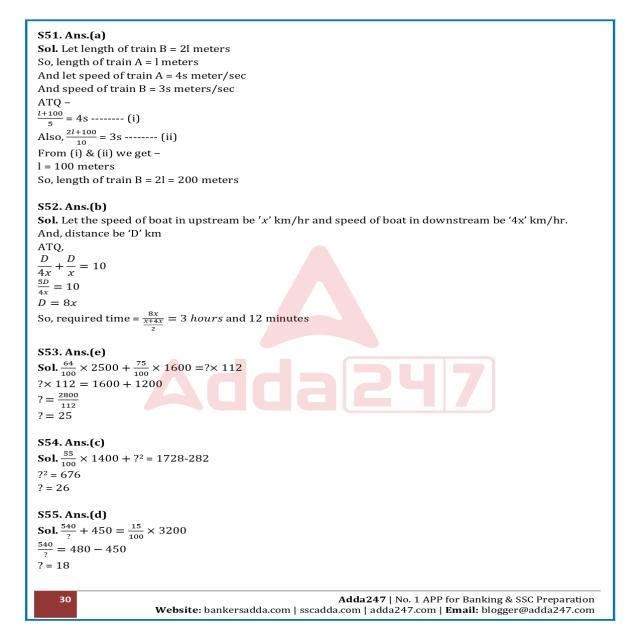Answer_Block: (29, 22, 614, 192), (28, 202, 618, 328), (25, 348, 616, 426), (24, 508, 612, 583), (22, 438, 614, 501)
Question_Paper_Area: (24, 21, 605, 579)
